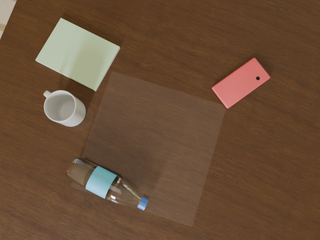book: (36, 18, 120, 91)
bottle: (66, 157, 148, 210)
cup: (44, 91, 86, 126)
phone: (212, 58, 270, 108)
